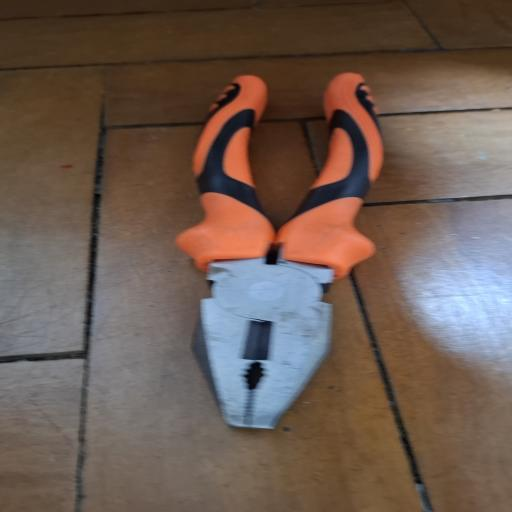alicate: (173, 70, 390, 431)
